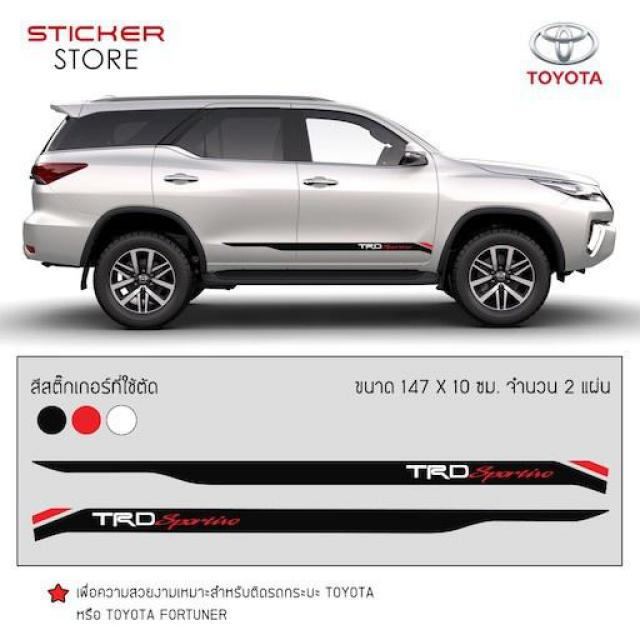back_right_door: (152, 104, 299, 264)
back_right_light: (31, 163, 91, 184)
front_right_door: (295, 104, 440, 264)
front_right_light: (532, 178, 608, 202)
wheel: (95, 229, 551, 331)
